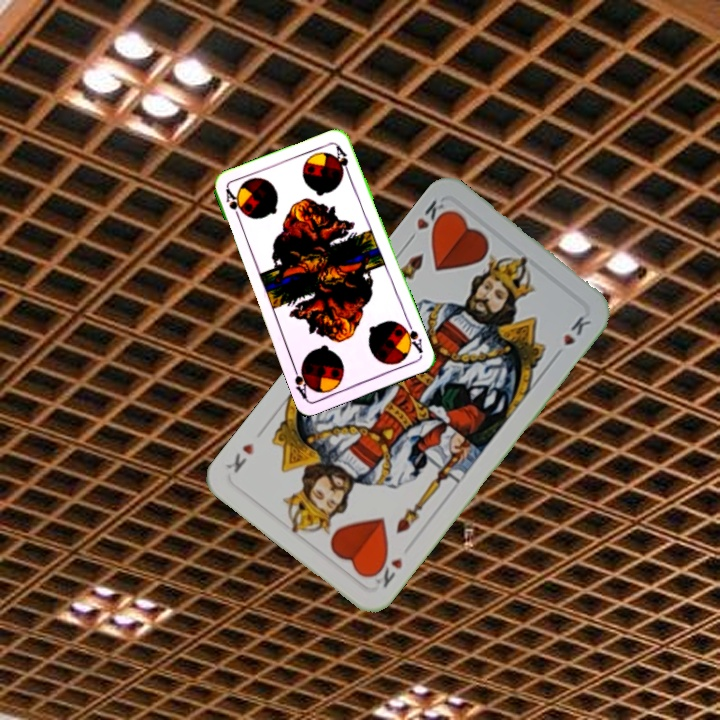HK: (403, 195, 452, 246), (365, 552, 405, 591)
SA: (398, 318, 425, 356), (222, 185, 247, 224)
